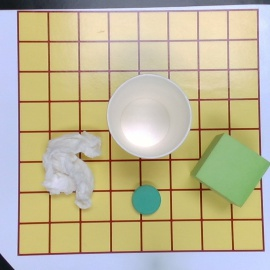cup: (106, 74, 192, 161)
green: (131, 184, 161, 215)
